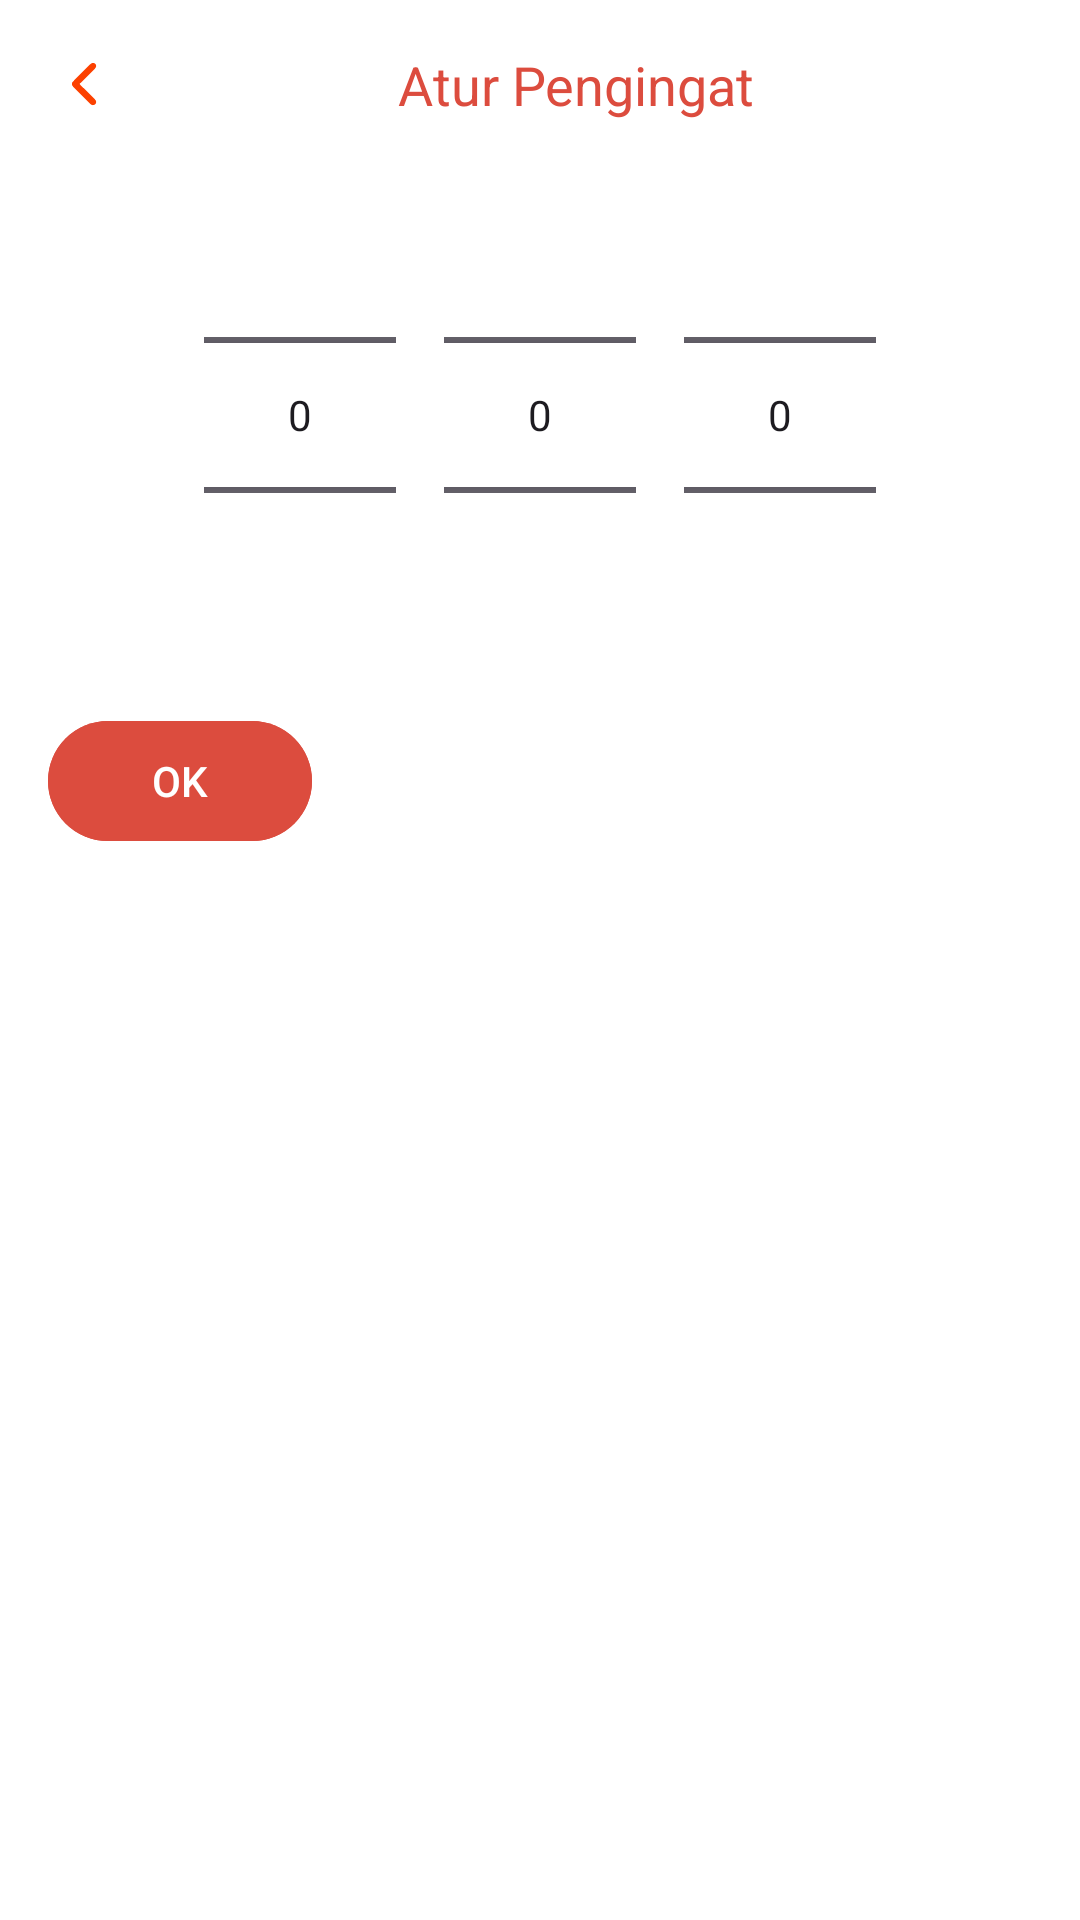

Icons on this 1080 x 1920 Android screen, each with the point to tap as point (x, y):
arrow left: point (84, 84)
